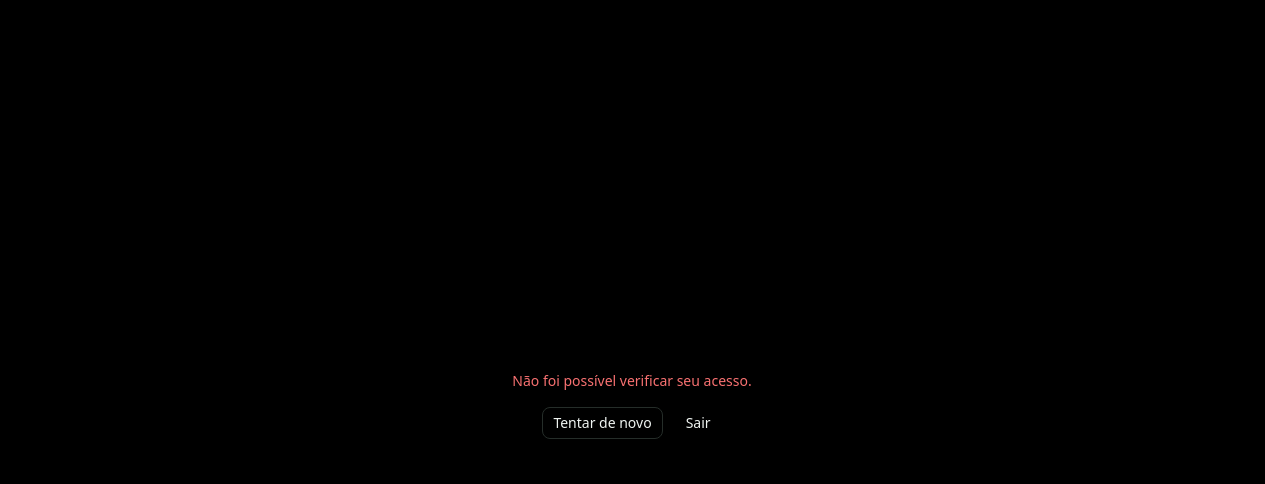
Test: login e acesso › "Tentar de novo" com a rede de volta entra no app
Click the button "Tentar de novo". click: x=603, y=423
box: [542,407,663,439]
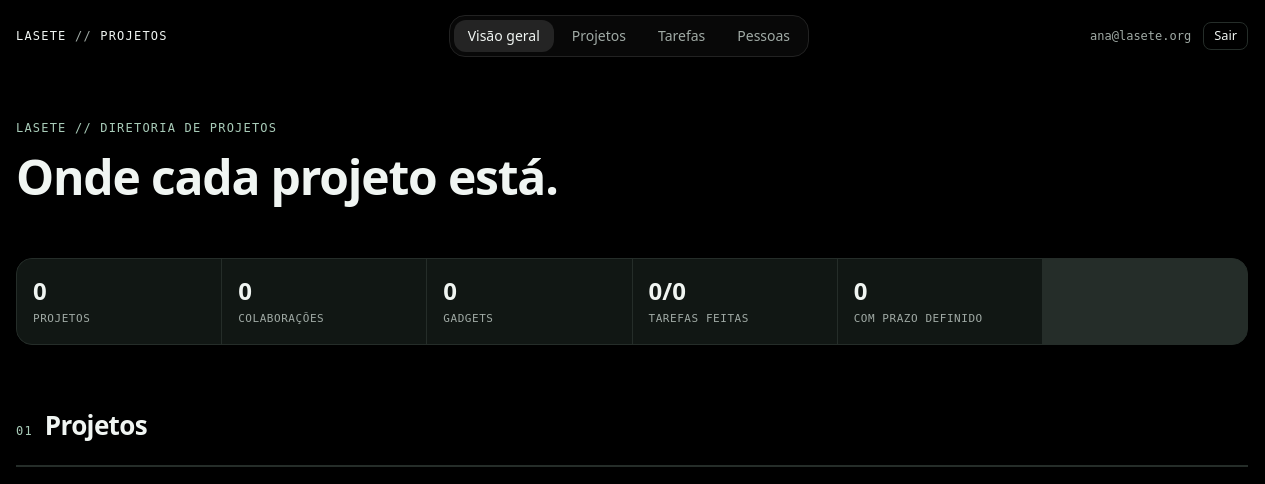
Now the text "Visão geral" is shown, box [468,26,540,44]
